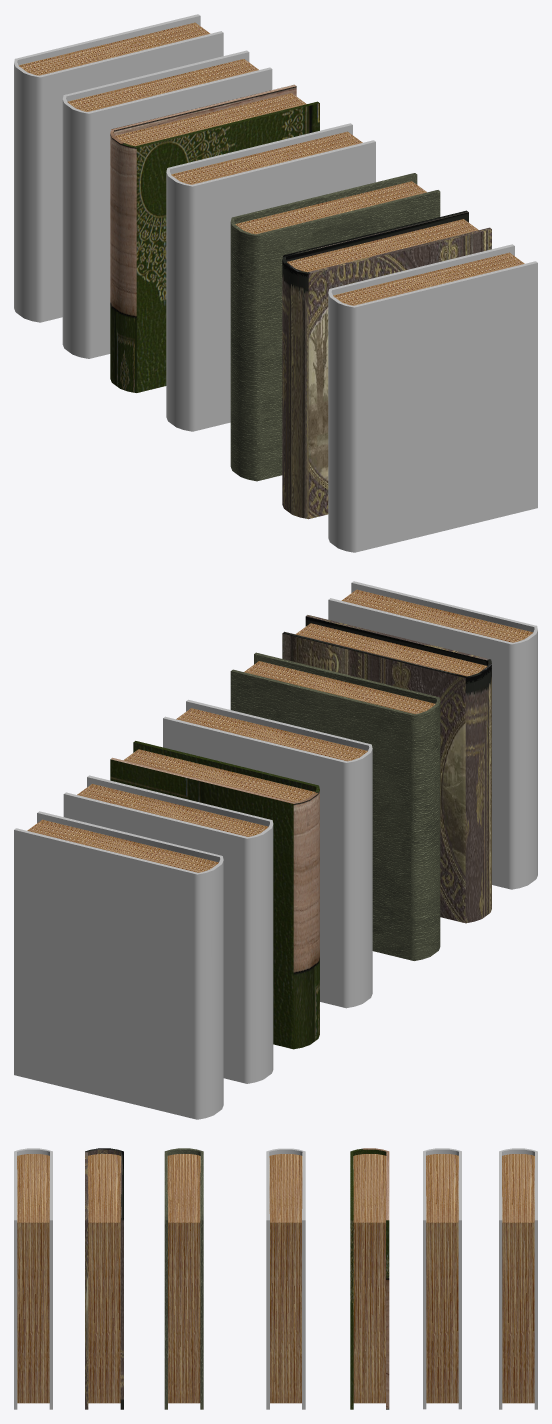
The model's file is 1book.obj.
3 renders of one model, top to bottom at view 1: azimuth 30°, elevation 25°; view 2: azimuth 150°, elevation 25°; view 3: azimuth 270°, elevation 25°, orthographic. The views are drawn at different scales.
Parts seen in each view (by area): view 1: Cube.006_Cube.008, Cube.000_Cube.004, Cube.001_Cube.003, Cube.004_Cube.001, Cube.002_Cube.006, Cube.003_Cube.007, Cube.005; view 2: Cube.002_Cube.006, Cube.004_Cube.001, Cube.000_Cube.004, Cube.005, Cube.003_Cube.007, Cube.001_Cube.003, Cube.006_Cube.008; view 3: Cube.004_Cube.001, Cube.001_Cube.003, Cube.000_Cube.004, Cube.003_Cube.007, Cube.006_Cube.008, Cube.005, Cube.002_Cube.006.
Boxes of the visible parts, x1,y1,x2,y2 form: Cube.006_Cube.008: (328,244,537,552); Cube.000_Cube.004: (166,123,375,431); Cube.001_Cube.003: (110,84,319,392); Cube.004_Cube.001: (230,173,440,481); Cube.002_Cube.006: (14,14,223,322); Cube.003_Cube.007: (62,50,272,358); Cube.005: (282,210,491,519); Cube.002_Cube.006: (14,811,223,1119); Cube.004_Cube.001: (230,652,440,960); Cube.000_Cube.004: (163,699,372,1008); Cube.005: (282,615,491,923); Cube.003_Cube.007: (63,775,273,1083); Cube.001_Cube.003: (110,741,319,1049); Cube.006_Cube.008: (328,581,537,889); Cube.004_Cube.001: (164,1148,203,1409); Cube.001_Cube.003: (350,1148,389,1409); Cube.000_Cube.004: (266,1148,305,1409); Cube.003_Cube.007: (423,1148,461,1409); Cube.006_Cube.008: (14,1148,52,1409); Cube.005: (85,1148,123,1409); Cube.002_Cube.006: (499,1148,537,1409).
Size of the model in its own units: 0.2945 by 0.358 by 0.8956.
